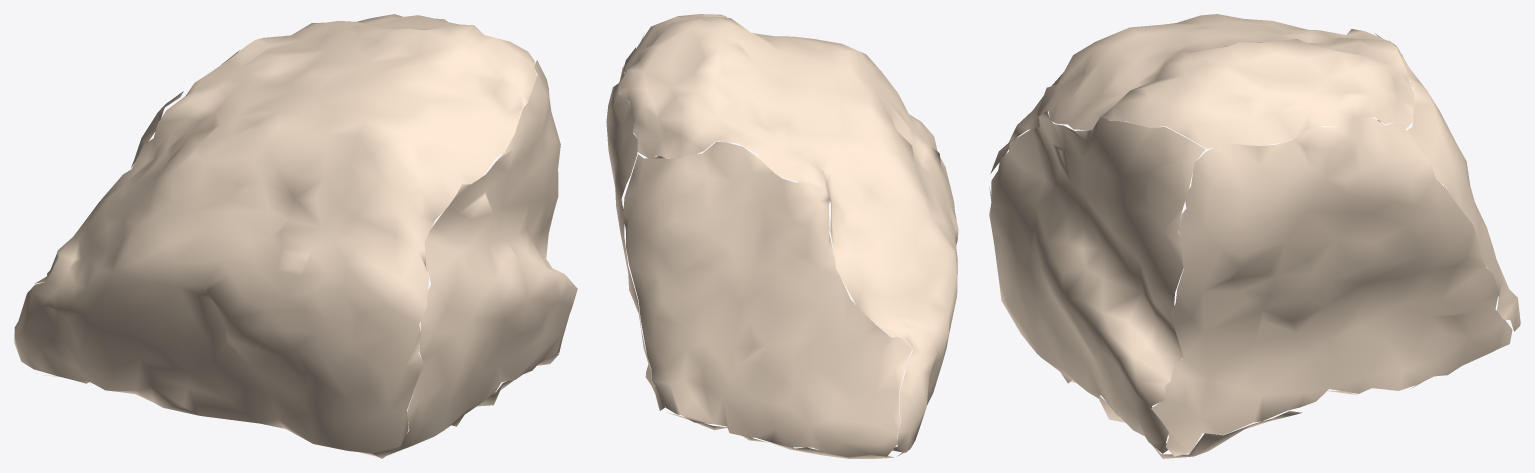
Rendered from desert_boulder_a_LODs_rock.glb.
The picture shows the model from 3 angles, left to right: view 1: azimuth 30°, elevation 25°; view 2: azimuth 150°, elevation 25°; view 3: azimuth 270°, elevation 25°; orthographic projection. The views are drawn at different scales.
Parts seen in each view (by area): view 1: desert_boulder_a_LOD0; view 2: desert_boulder_a_LOD0; view 3: desert_boulder_a_LOD0.
Boxes of the visible parts, x1,y1,x2,y2 form: desert_boulder_a_LOD0: [14, 14, 577, 458]; desert_boulder_a_LOD0: [606, 14, 958, 458]; desert_boulder_a_LOD0: [989, 14, 1520, 458].
Size of what is drawn, in the model's own units: 3.45 by 2.58 by 3.41.
